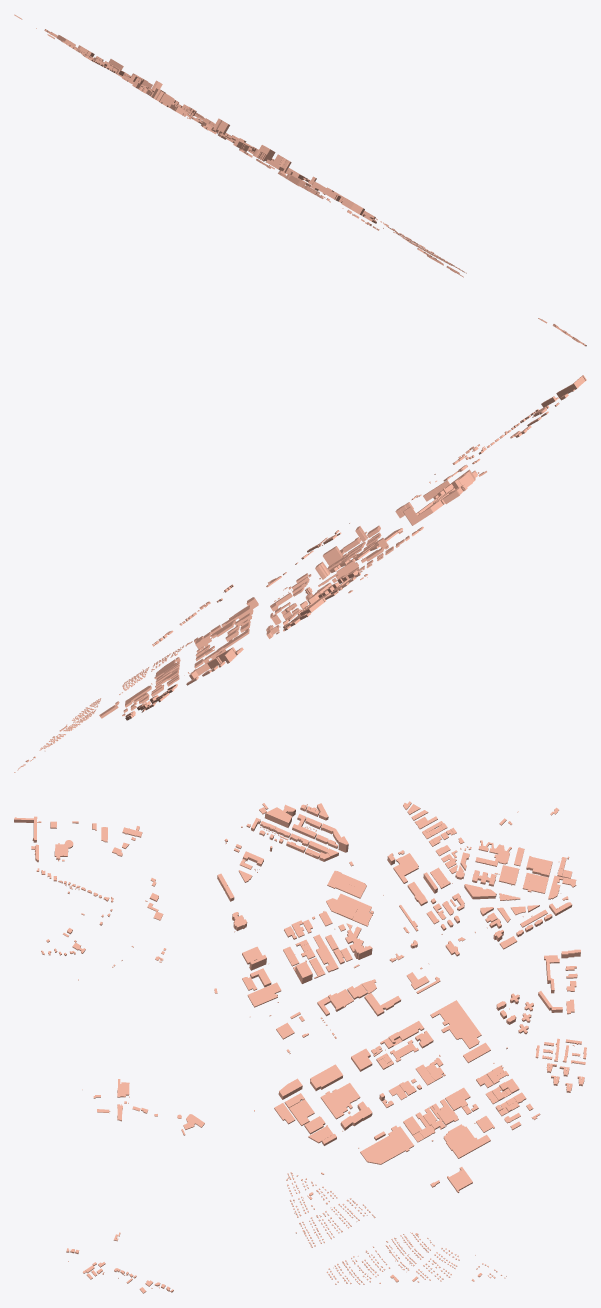
The picture shows the model from 3 angles, top to bottom: view 1: azimuth 30°, elevation 25°; view 2: azimuth 150°, elevation 25°; view 3: azimuth 270°, elevation 25°; orthographic projection. The views are drawn at different scales.
Size of the model in its own units: 2033 by 1502 by 2545.
